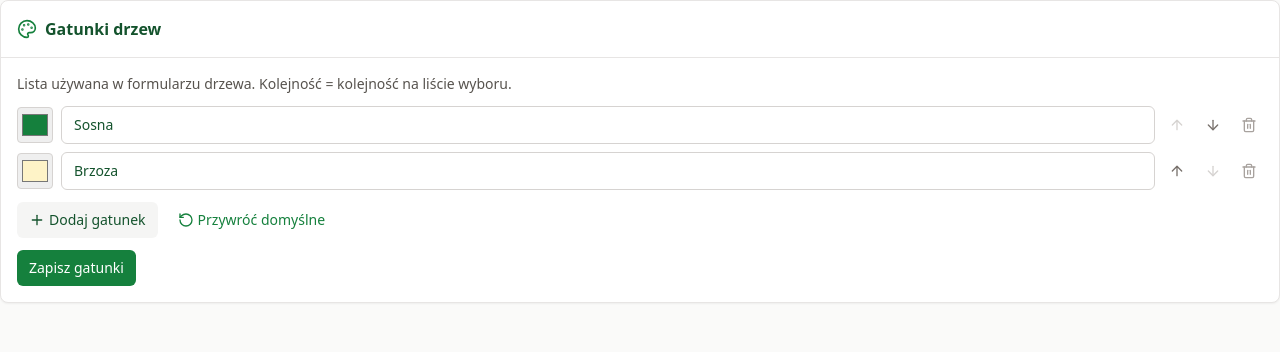
Test: SpeciesEditor › should save after rename when valid
Type " zwyczajna" into the field named "Nazwa gatunku 1" at (608, 125), box x1=61 y1=106 x2=1155 y2=144
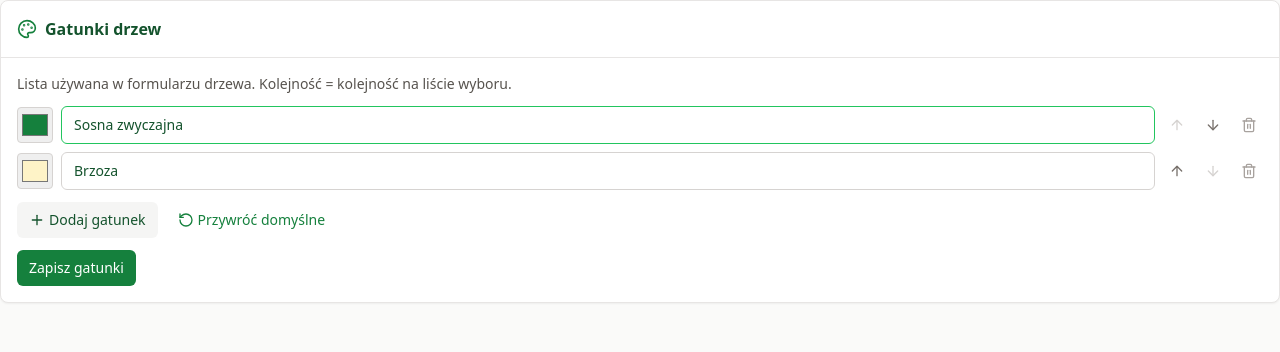
Click the button with test id "species-save" at (76, 268), box x1=17 y1=250 x2=136 y2=286
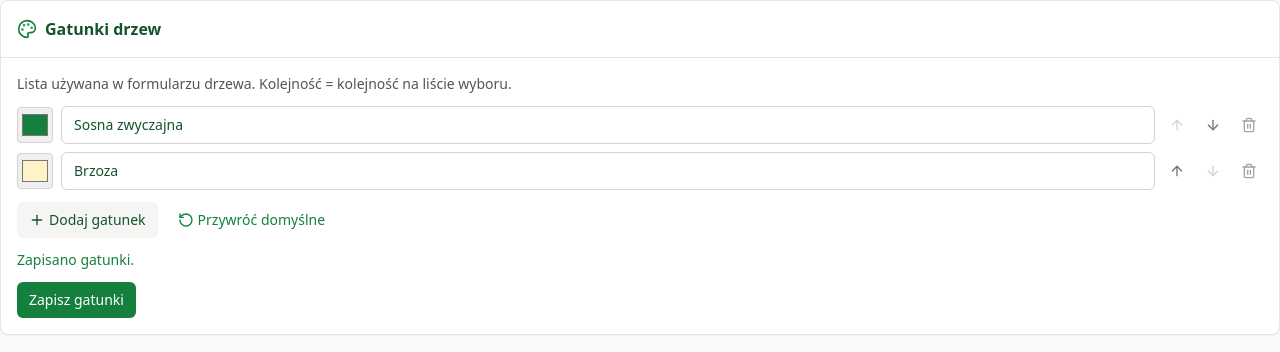
Now the message "Zapisano gatunki." is shown, box x1=17 y1=250 x2=134 y2=269
